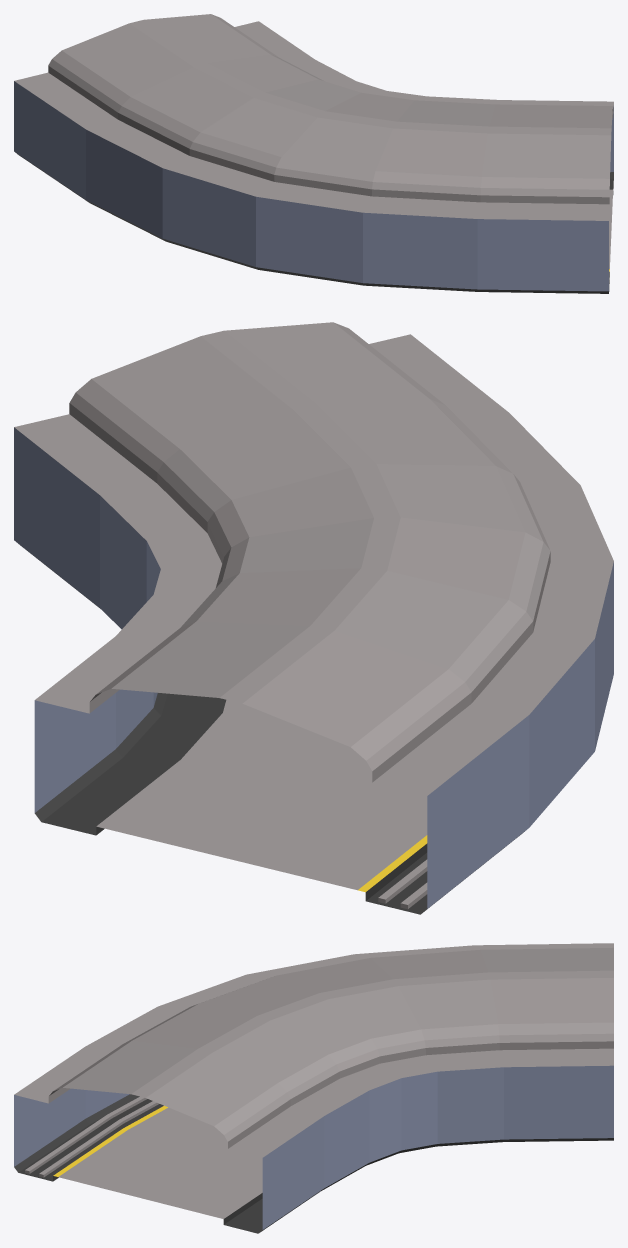
File: Subway Bend.fbx
The picture shows the model from 3 angles, top to bottom: view 1: azimuth 30°, elevation 25°; view 2: azimuth 150°, elevation 25°; view 3: azimuth 270°, elevation 25°; orthographic projection. The views are drawn at different scales.
Parts seen in each view (by area): view 1: Subway Bend; view 2: Subway Bend; view 3: Subway Bend.
Part boxes in pixels (x1=…): Subway Bend: x1=14, y1=14, x2=613, y2=293; Subway Bend: x1=14, y1=322, x2=613, y2=914; Subway Bend: x1=14, y1=943, x2=613, y2=1233.
Size of the model in its own units: 3570 by 831 by 4215.
